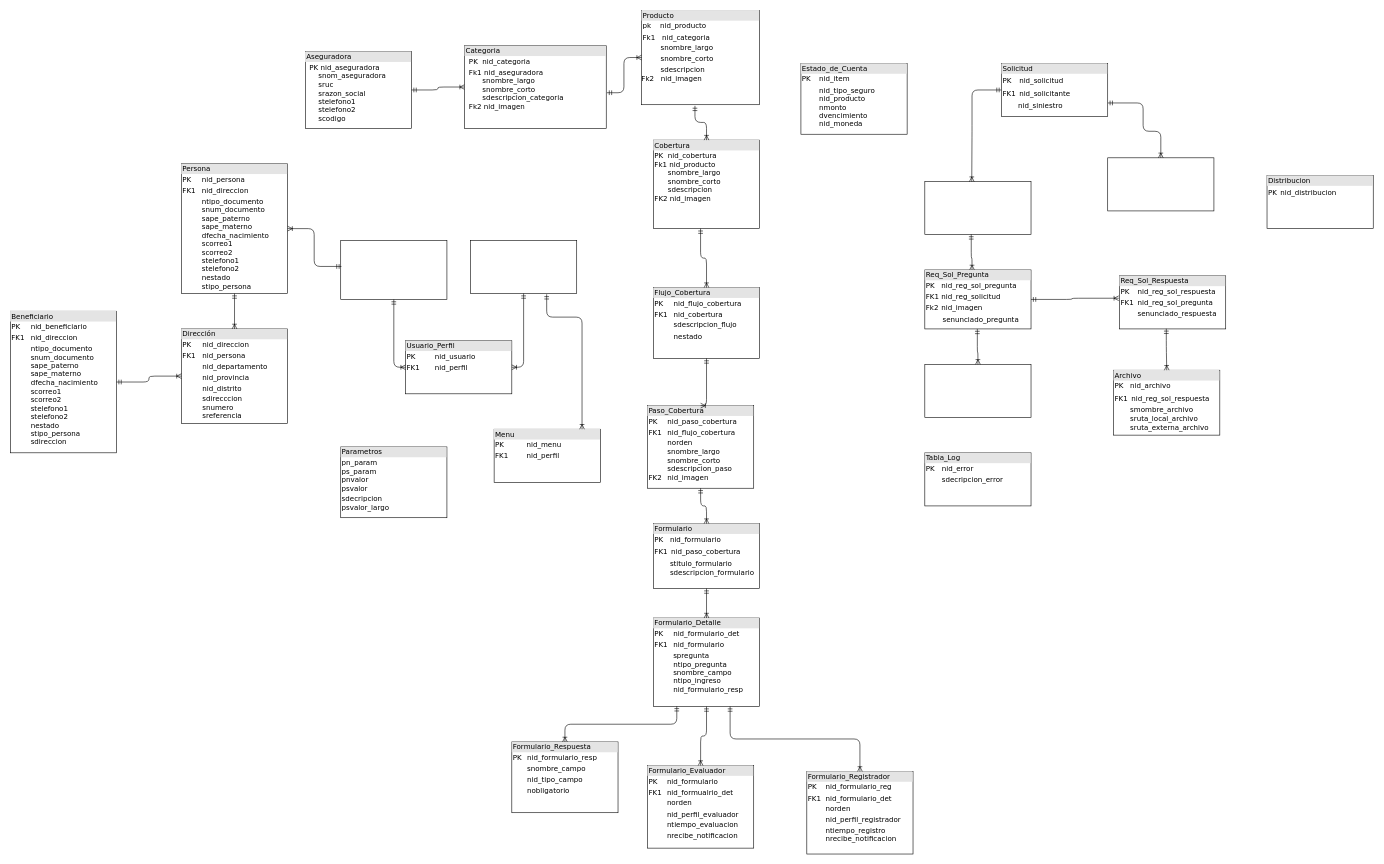
Some shapes in this 1384 by 864 pixel diagram are drawn without their labels. Each missing label, with the box of its shape:
Perfil PK nid_perfil stipo_perfil snombre sdescripcion: (470, 240, 577, 294)
Reg_Solicitud PK nid_reg_solicitud FK1 nid_solicitud: (924, 181, 1031, 235)
Ruta_Imagen PK nid_imagen sruta_imagen_local sruta_imagen_externa: (924, 364, 1031, 417)
Solicitud_His PK nid_solicitud_his FK1 nid_solicitud: (1107, 157, 1214, 211)
Usuario PK nid_usuario FK1 nid_persona nid_perfil scuenta spassword: (340, 240, 447, 299)
